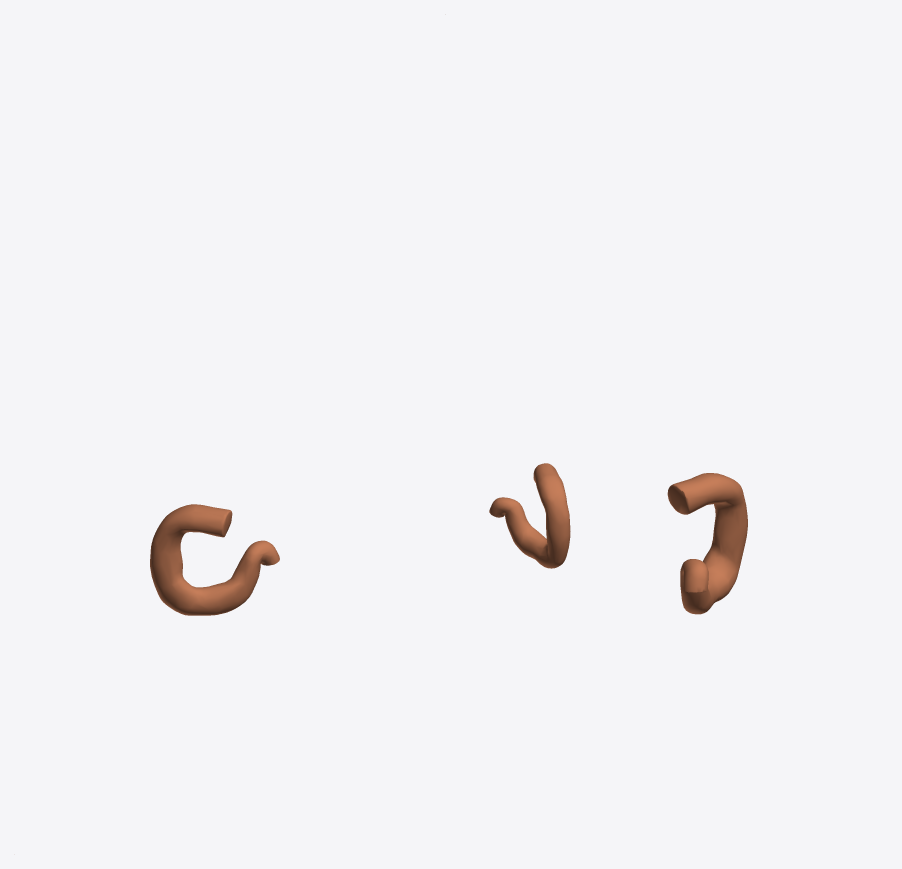
Rendered from duodenum.glb.
3 views of the same model, side by side, from view 1: azimuth 30°, elevation 25°; view 2: azimuth 150°, elevation 25°; view 3: azimuth 270°, elevation 25° (orthographic). The views are drawn at different scales.
Visible parts, largest first — view 1: duodenum; view 2: duodenum; view 3: duodenum.
Part boxes in pixels (x1=…): duodenum: x1=150, y1=504, x2=279, y2=615; duodenum: x1=489, y1=463, x2=570, y2=568; duodenum: x1=667, y1=473, x2=747, y2=614.
Size of the model in its own units: 0.2441 by 0.7272 by 0.191.
